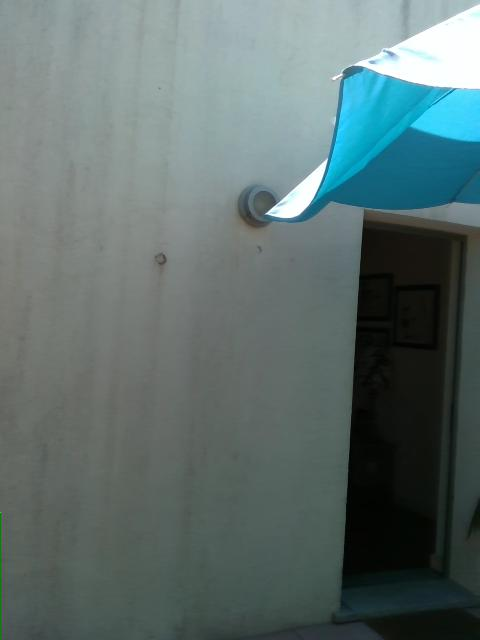open_door: (338, 208, 479, 614)
